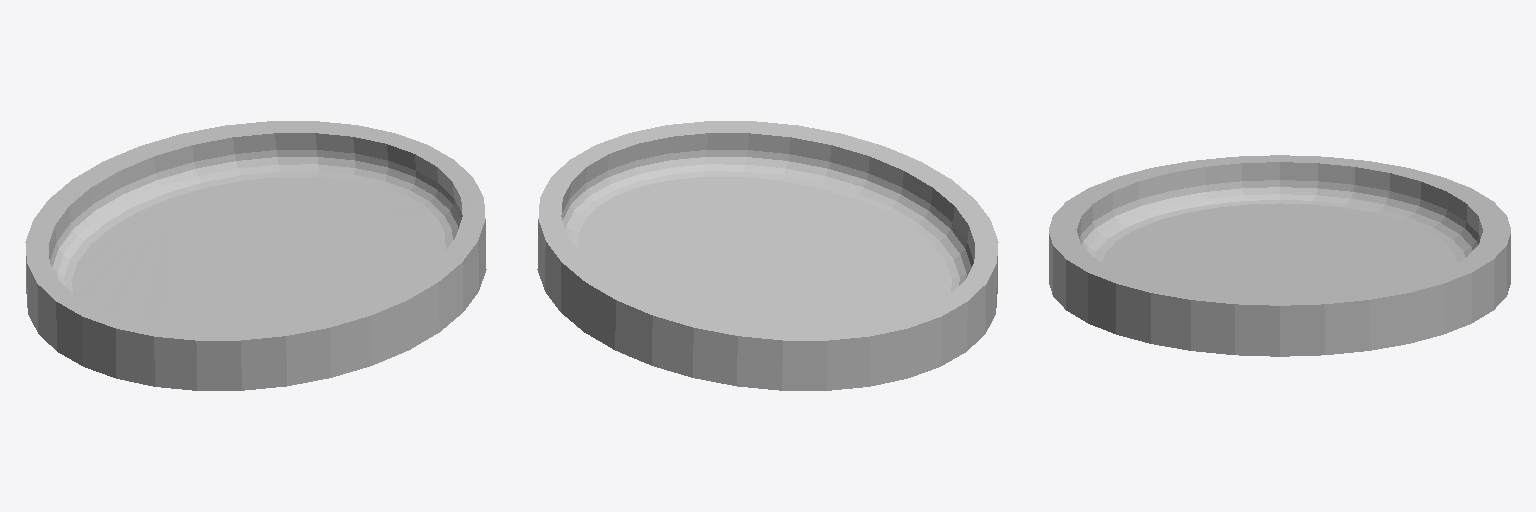
The model's file is Disc.obj.
3 renders of one model, left to right at view 1: azimuth 30°, elevation 25°; view 2: azimuth 150°, elevation 25°; view 3: azimuth 270°, elevation 25°, orthographic.
Visible parts, largest first — view 1: Cube.054; view 2: Cube.054; view 3: Cube.054.
Part boxes in pixels (left/top/right/bottom): Cube.054: left=25, top=121, right=486, bottom=390; Cube.054: left=537, top=121, right=998, bottom=390; Cube.054: left=1049, top=155, right=1510, bottom=356.
Bounding box in the file's own units: 1.99 × 0.4504 × 2.